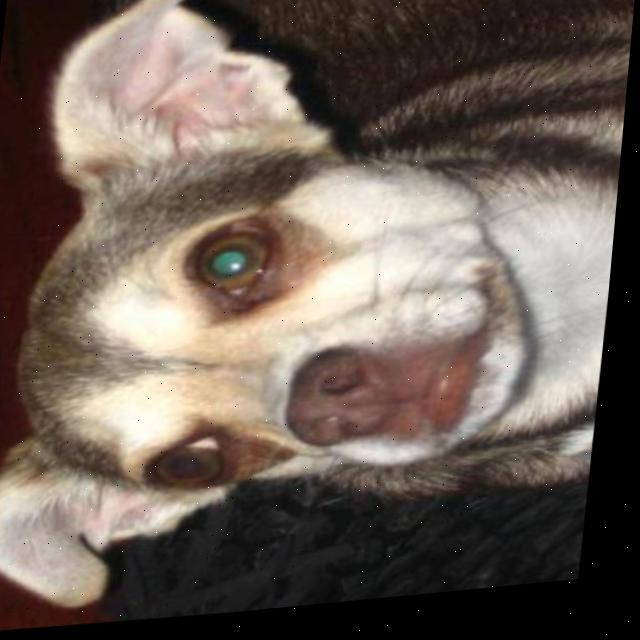dogs: (0, 0, 640, 625)
